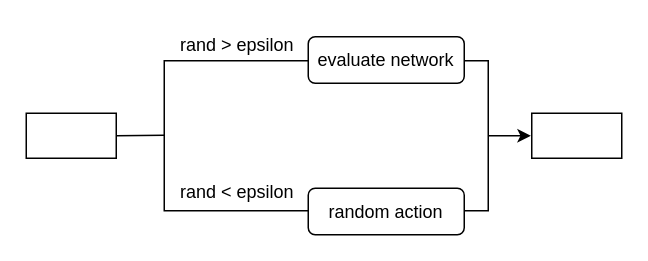
The diagram is 648 pixels wide and 261 high, and some of its shapes have lost their labels. The centre of each missing label's shape, as x and y in pixels:
"action a" belongs at pixel 576 135.
"state s" belongs at pixel 70 135.
